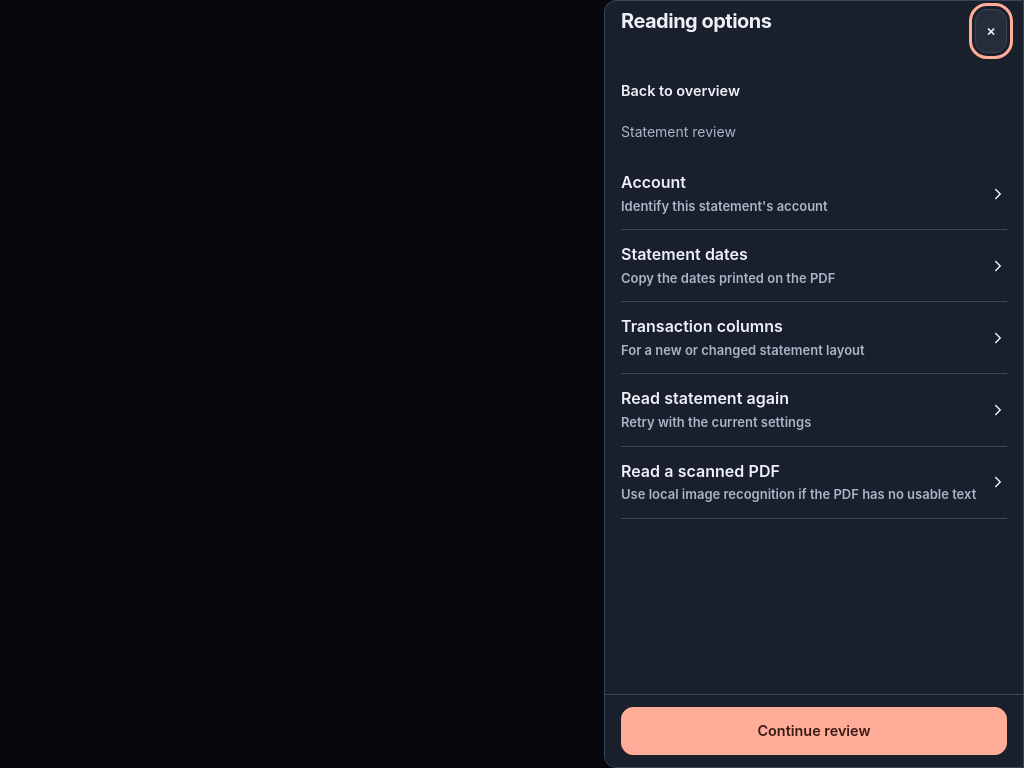
manual statement review workspace › prefills dates already recognized by the recovery reader
The image size is (1024, 768).
Click the button "Statement dates Copy the dates printed on the PDF". click: (684, 254)
box: [621,230,1007,302]
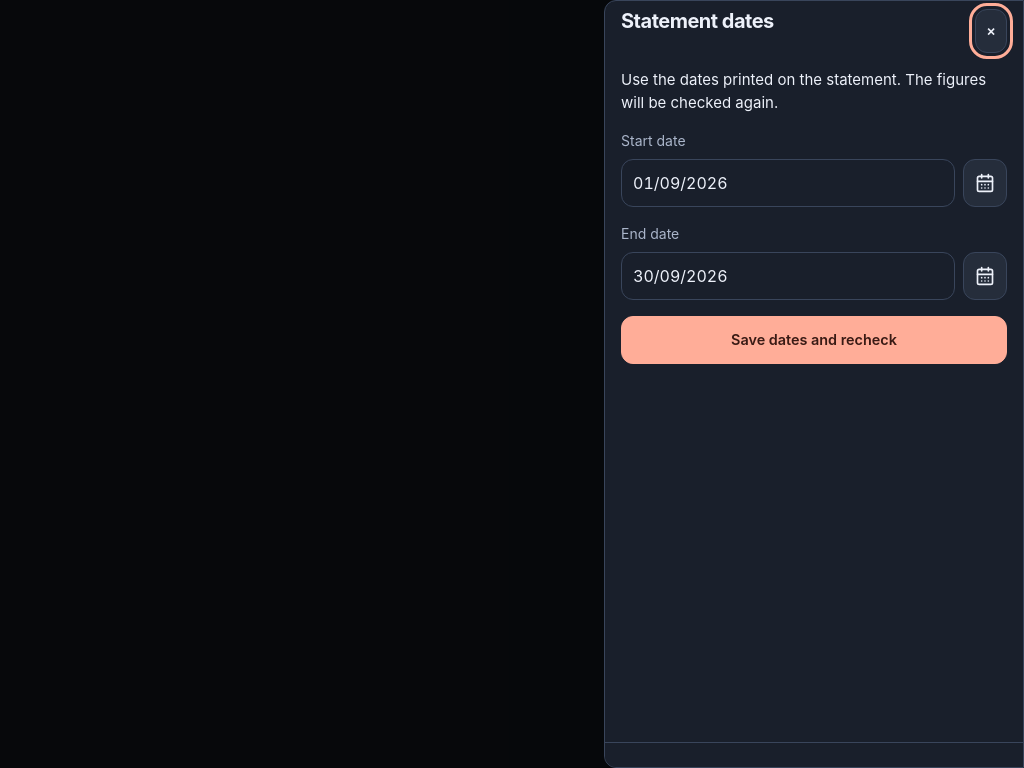
Now the field labelled "Start date" holds "01/09/2026", box [621,159,955,207]
Now the field labelled "End date" holds "30/09/2026", box [621,252,955,300]
